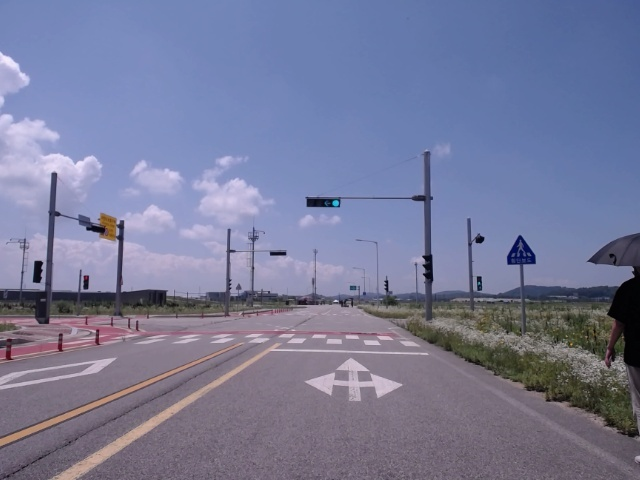all_green_4: (307, 195, 341, 206)
